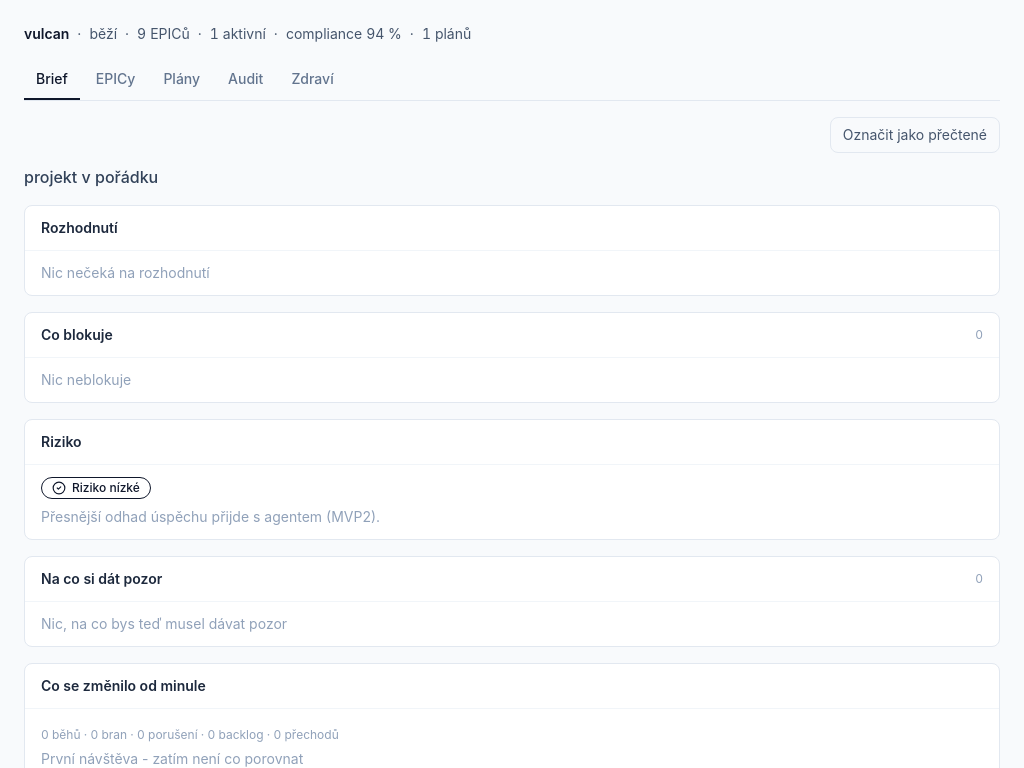
ScreenB — project detail tab strip › scoredEpicCount===0 → honest empty line, never a fabricated 0%/median
The width and height of the screenshot is (1024, 768).
Click the tab "Audit" at point(246, 80), box [216,60,275,100]
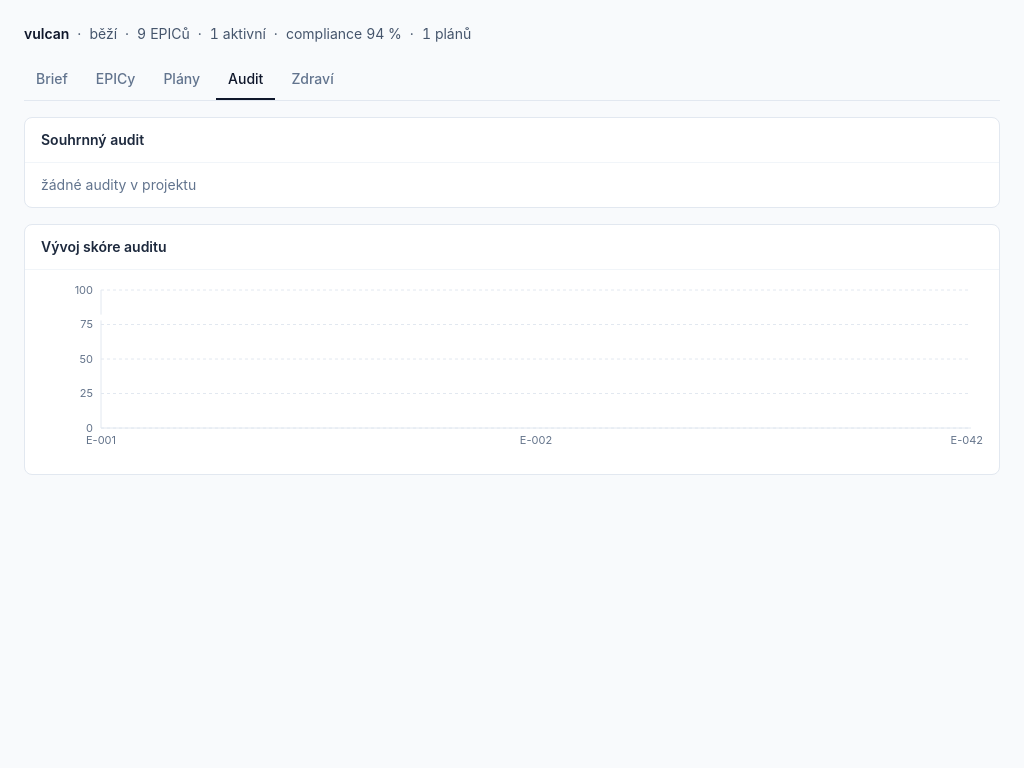
Result: the text "žádné audity v projektu" is shown at [41,176,196,193]
